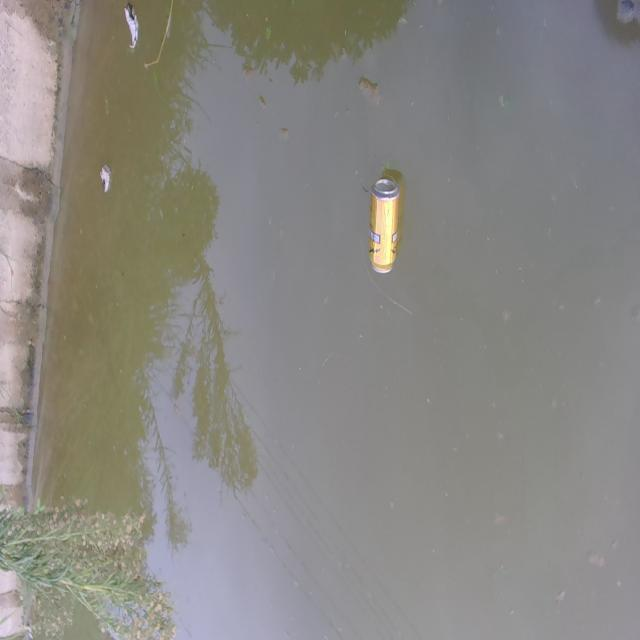Can: (366, 168, 403, 279)
